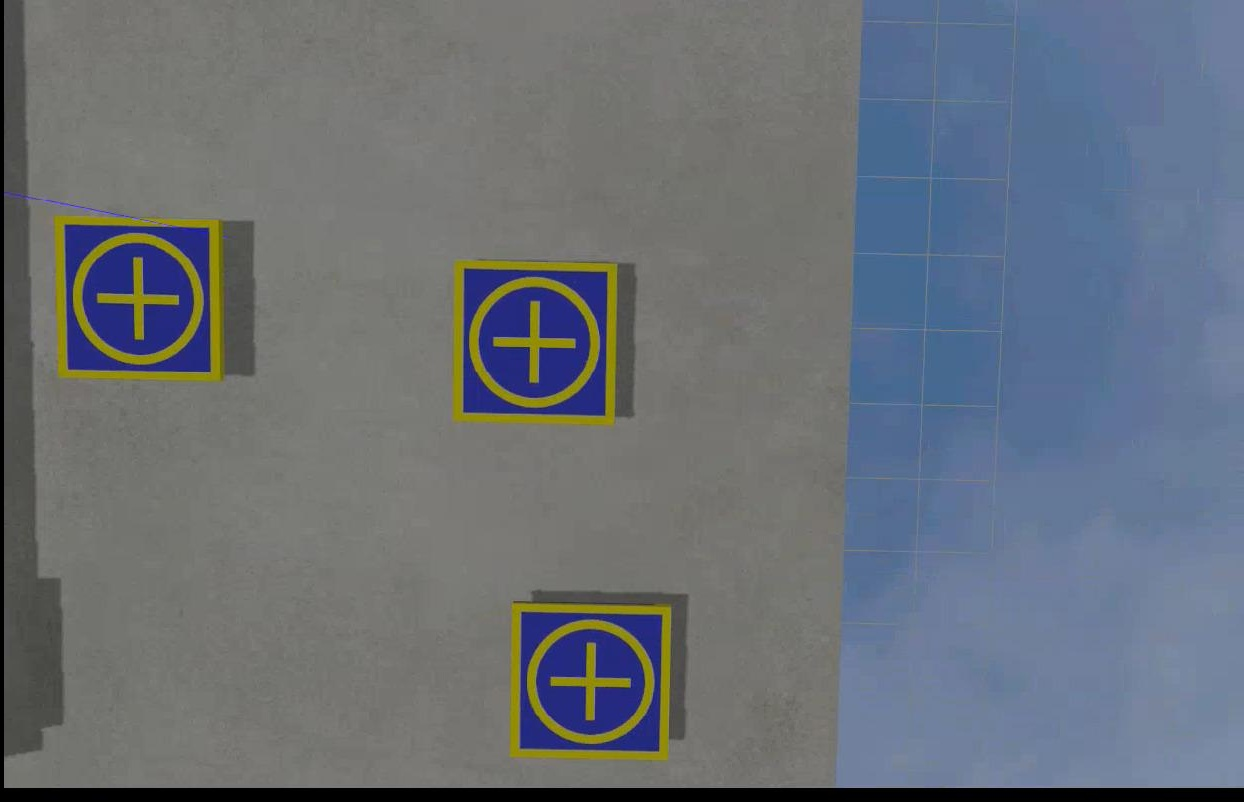small_base: (53, 214, 224, 385), (446, 261, 616, 429), (509, 602, 671, 764)
